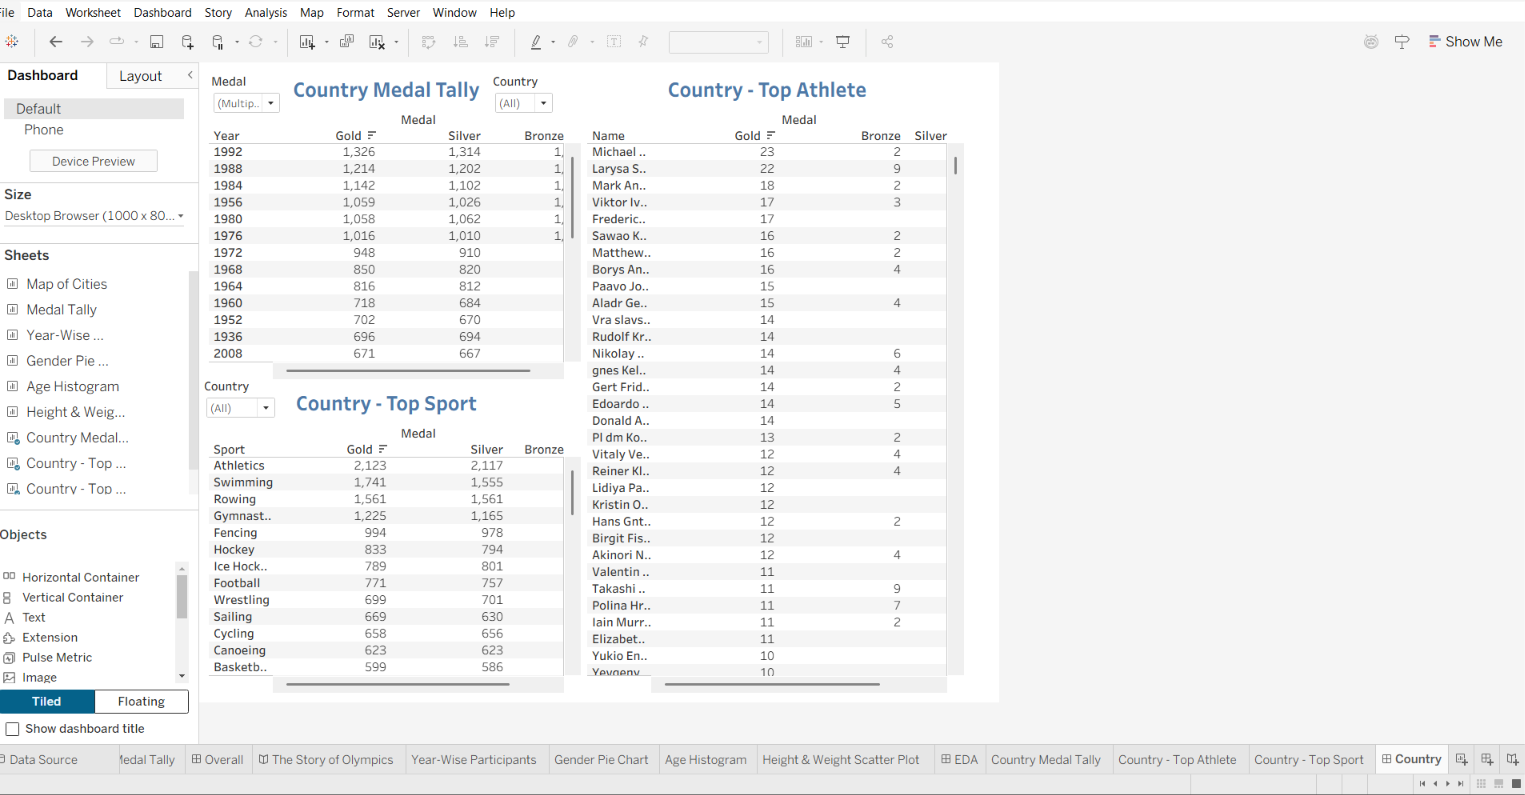

What the dashboard file says about the page in this screenshot:
{"tool":"tableau","page":{"name":"Country","canvas":[1000,800],"ordinal":0},"visuals":[{"type":"worksheet","title":"Country Medal Tally","mark":"Automatic","rows":["Year"],"cols":["Medal"],"box":[8,8,473,392]},{"type":"worksheet","title":"Country - Top Athlete","mark":"Automatic","rows":["Name"],"cols":["Medal"],"box":[481,8,479,784]},{"type":"filter","title":"Country Medal Tally","param":"[federated.17pjy4u0fawu9s1e99aii0kdw74h].[none:Medal:nk]","box":[15,13,89,76]},{"type":"filter","title":"Country Medal Tally","param":"[federated.17pjy4u0fawu9s1e99aii0kdw74h].[none:Country:nk]","box":[367,13,78,72]},{"type":"filter","title":"Country - Top Sport","param":"[federated.17pjy4u0fawu9s1e99aii0kdw74h].[none:Country:nk]","box":[6,394,92,73]},{"type":"worksheet","title":"Country - Top Sport","mark":"Automatic","rows":["Sport"],"cols":["Medal"],"box":[8,400,473,392]}]}

Visuals, with their boxes on the page's 1000x800 design canvas (x1, y1, x2, y2). These are canvas units, not pixel positions in the 1525x795 screenshot, which may show the page scaled, cropped or inside an application window:
"Country Medal Tally" worksheet: {"left": 8, "top": 8, "right": 481, "bottom": 400}
"Country - Top Athlete" worksheet: {"left": 481, "top": 8, "right": 960, "bottom": 792}
"Country Medal Tally" filter: {"left": 15, "top": 13, "right": 104, "bottom": 89}
"Country Medal Tally" filter: {"left": 367, "top": 13, "right": 445, "bottom": 85}
"Country - Top Sport" filter: {"left": 6, "top": 394, "right": 98, "bottom": 467}
"Country - Top Sport" worksheet: {"left": 8, "top": 400, "right": 481, "bottom": 792}
